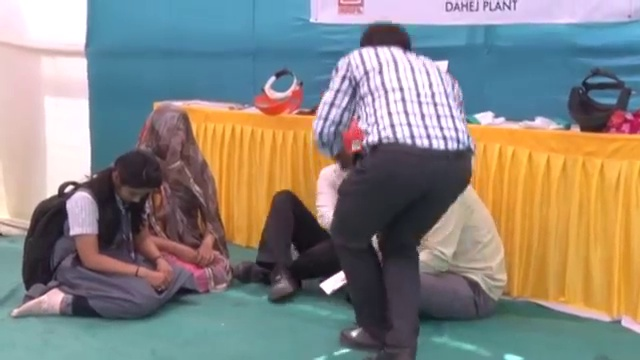helmet: (334, 117, 369, 156)
helmet_off: (145, 107, 198, 175), (105, 148, 162, 205), (351, 22, 421, 65)
helmet_on: (330, 116, 371, 173)
person: (312, 22, 477, 357), (15, 146, 190, 321), (234, 118, 372, 303), (132, 101, 229, 292), (408, 188, 512, 322)
